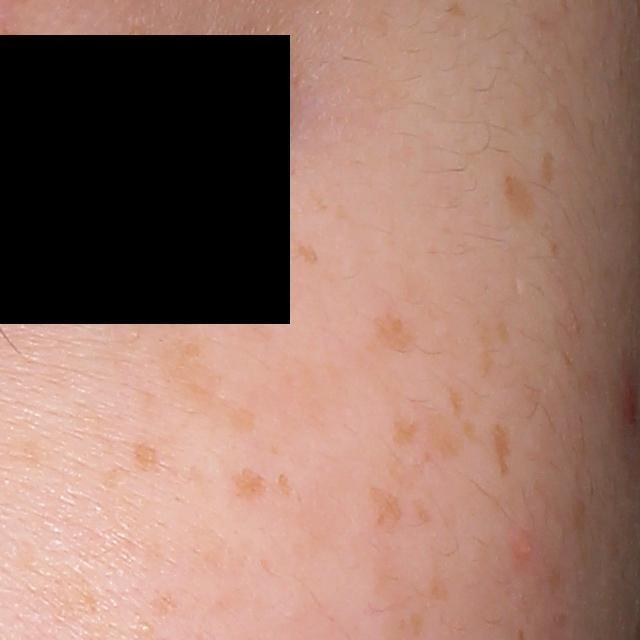melasma: (148, 330, 260, 428), (374, 554, 433, 624), (413, 396, 471, 458), (446, 380, 483, 445), (376, 316, 420, 360), (365, 486, 403, 532), (219, 463, 263, 499), (384, 418, 422, 454), (489, 420, 512, 479), (476, 325, 501, 375), (131, 443, 165, 476), (149, 584, 183, 616), (495, 312, 517, 345)
papule: (513, 526, 542, 564)
